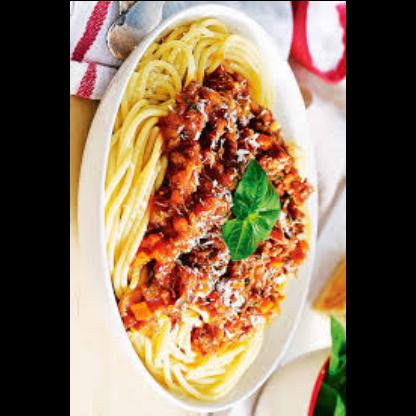spaghetti: (106, 16, 316, 400)
